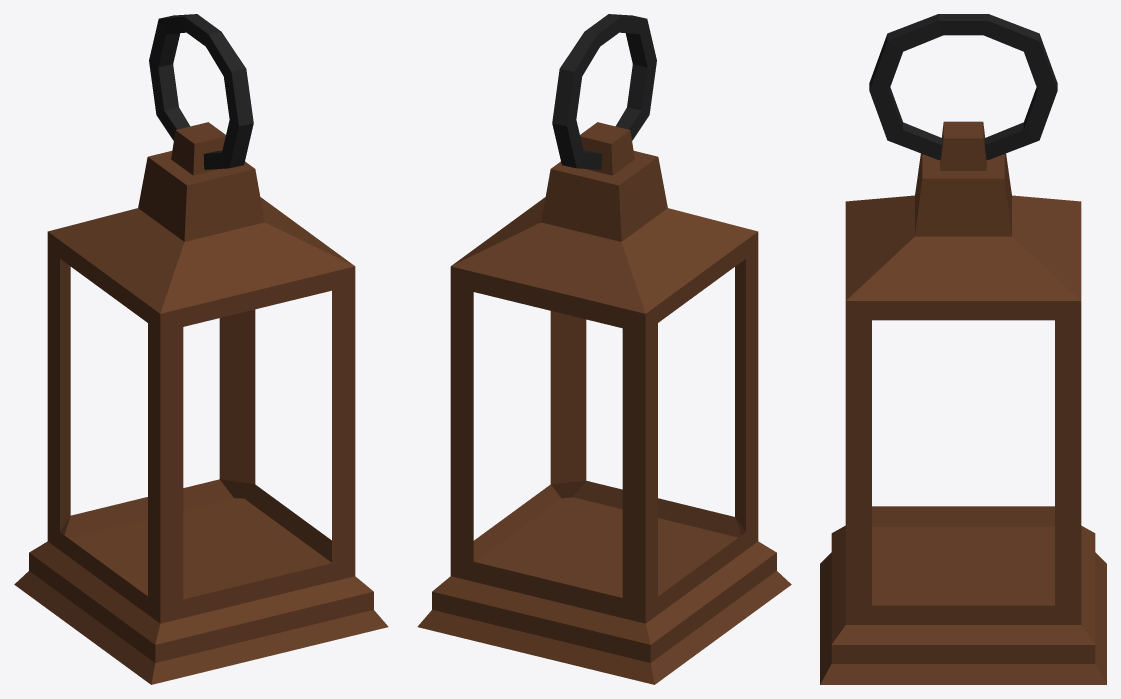
File: Lamp.obj
3 views of the same model, side by side, from view 1: azimuth 30°, elevation 25°; view 2: azimuth 150°, elevation 25°; view 3: azimuth 270°, elevation 25° (orthographic). The views are drawn at different scales.
Visible parts, largest first — view 1: Lamp_Wood, Lamp_Metal; view 2: Lamp_Wood, Lamp_Metal; view 3: Lamp_Wood, Lamp_Metal.
Boxes of the visible parts, bbox=[...] form: Lamp_Wood: bbox=[14, 122, 388, 684]; Lamp_Metal: bbox=[149, 14, 253, 169]; Lamp_Wood: bbox=[417, 122, 791, 684]; Lamp_Metal: bbox=[552, 14, 656, 169]; Lamp_Wood: bbox=[820, 121, 1106, 684]; Lamp_Metal: bbox=[869, 14, 1057, 159].
Size of the model in its own units: 0.1568 by 0.3668 by 0.1568.
